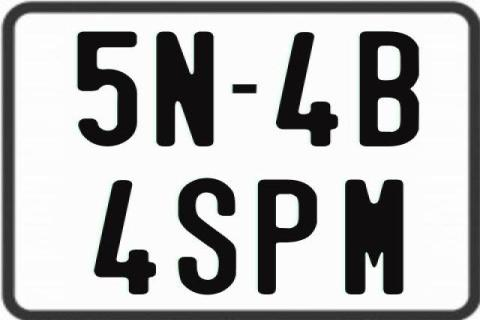0: (93, 180, 157, 298), (275, 30, 339, 144), (74, 29, 135, 147)
B: (360, 29, 419, 145)
M: (344, 178, 402, 296)
N: (156, 30, 218, 148)
P: (258, 178, 319, 294)
S: (177, 177, 239, 297)
